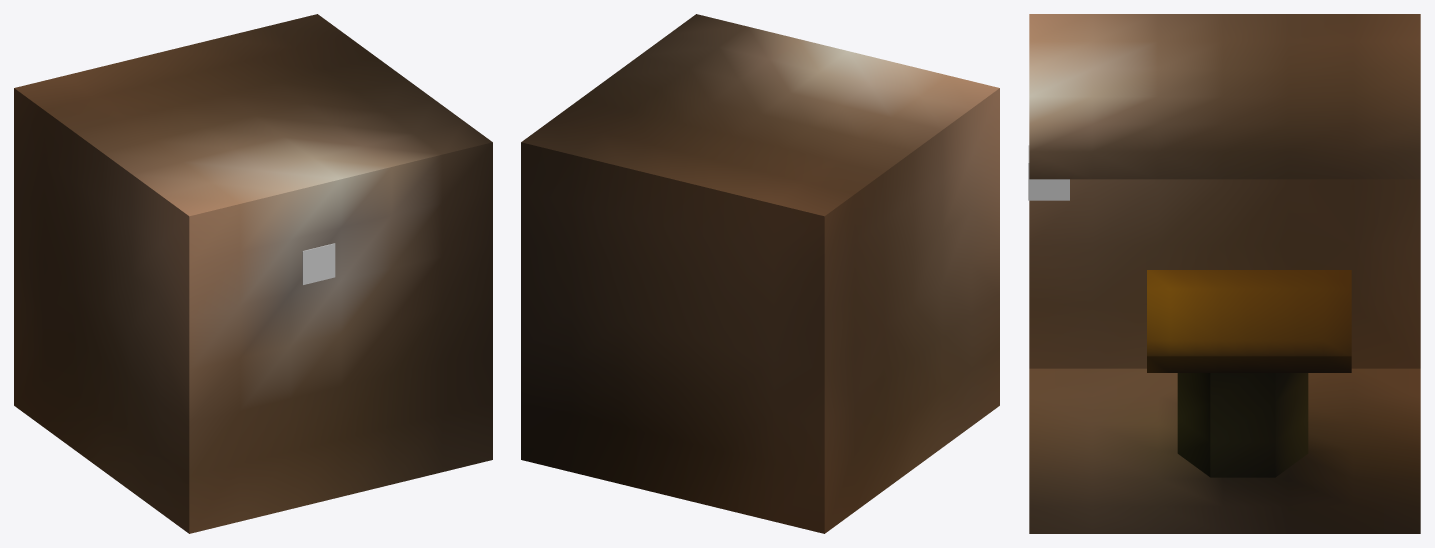
Rendered from solver.glb.
3 renders of one model, left to right at view 1: azimuth 30°, elevation 25°; view 2: azimuth 150°, elevation 25°; view 3: azimuth 270°, elevation 25°, orthographic. The views are drawn at different scales.
Visible parts, largest first — view 1: Cube, Cube.001; view 2: Cube; view 3: Cube, Cube.002, Cylinder, Cube.001.
Boxes of the visible parts, x1,y1,x2,y2 form: Cube: (14,14,492,533); Cube.001: (302,243,335,284); Cube: (521,14,999,533); Cube: (1029,14,1420,533); Cube.002: (1147,270,1351,372); Cylinder: (1177,373,1308,477); Cube.001: (1028,145,1069,200).
Size of the model in its own units: 6 by 6 by 6.02.
